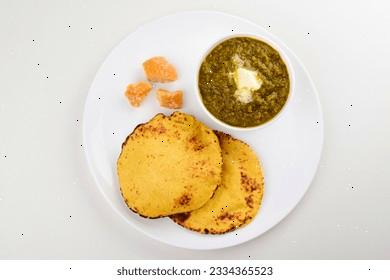saag: (201, 37, 289, 126)
